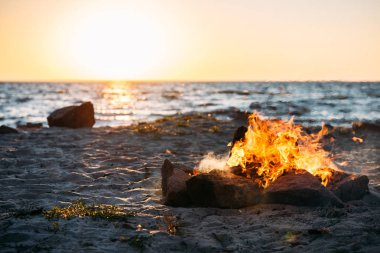fire: (234, 114, 330, 178)
